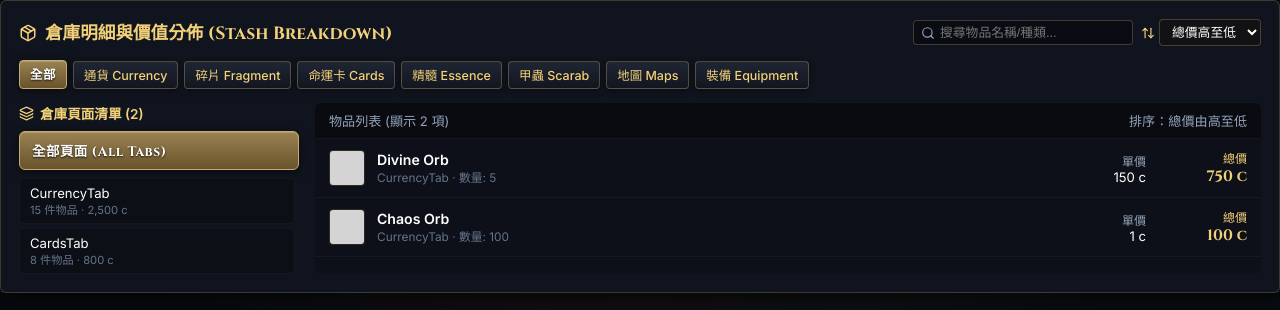
Test: TabBreakdown Component › filters items in real-time when searching by keyword
This screenshot has width=1280, height=310.
Type "Divine" into the field with placeholder "搜尋物品名稱/種類..." at (1023, 32), box [913,20,1133,45]
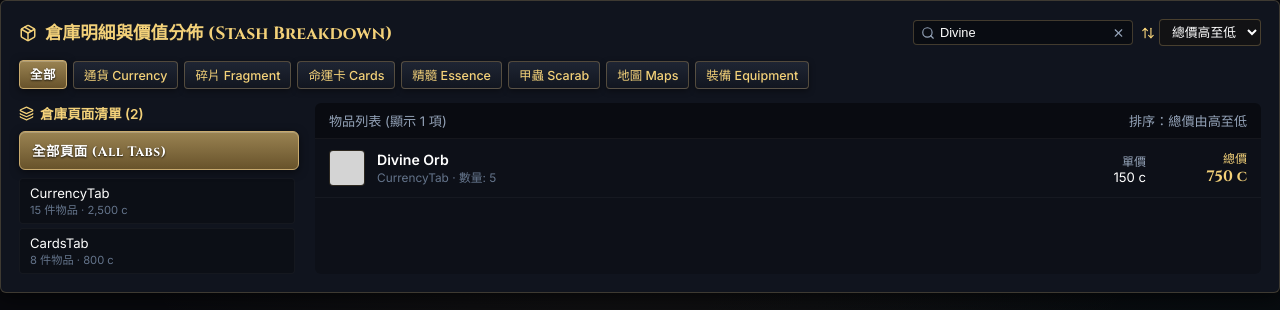
Expected: the text "Divine Orb" is shown, [377,151,449,168]
Expected: the text "Chaos Orb" is gone
